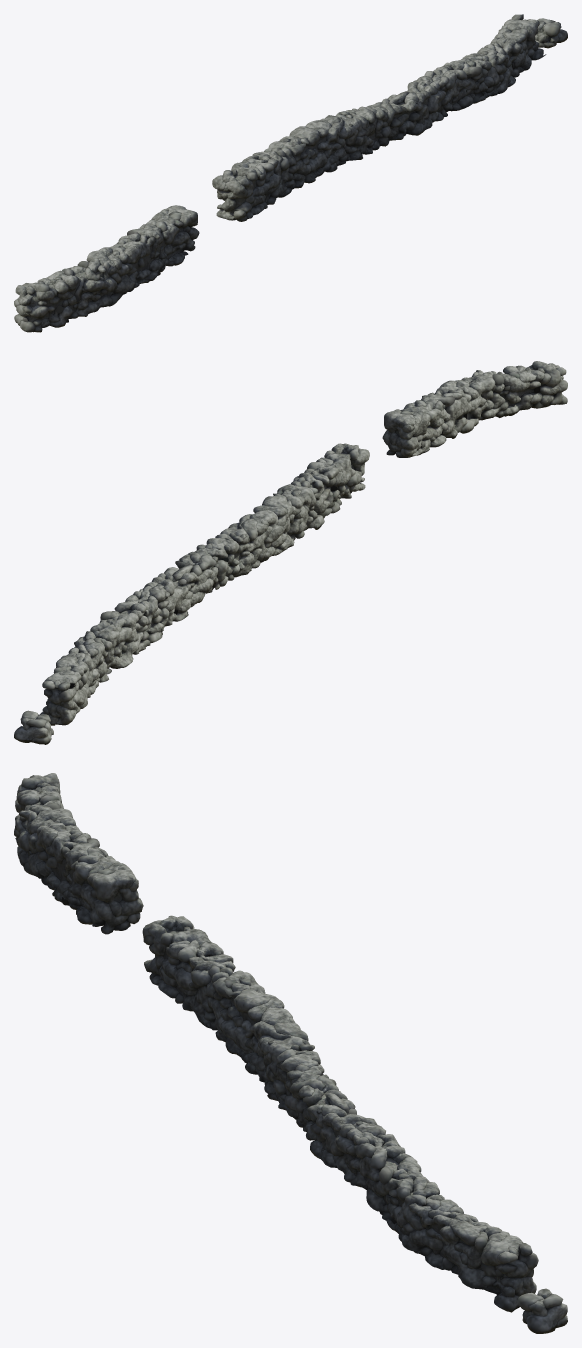
File: stone_wall.gltf
3 views of the same model, one above another, from view 1: azimuth 30°, elevation 25°; view 2: azimuth 210°, elevation 25°; view 3: azimuth 270°, elevation 25° (orthographic). The views are drawn at different scales.
Parts seen in each view (by area): view 1: stone_wall_Baked; view 2: stone_wall_Baked; view 3: stone_wall_Baked.
Part boxes in pixels (bbox=[...]): stone_wall_Baked: bbox=[14, 14, 567, 332]; stone_wall_Baked: bbox=[14, 361, 567, 744]; stone_wall_Baked: bbox=[14, 773, 567, 1333].
Bounding box in the file's own units: 19.84 × 2.11 × 9.62.
Materials: 1 (1 with a texture image).
